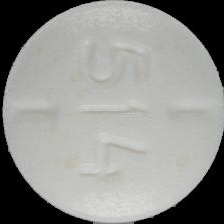43063-475: (0, 0, 224, 224)
